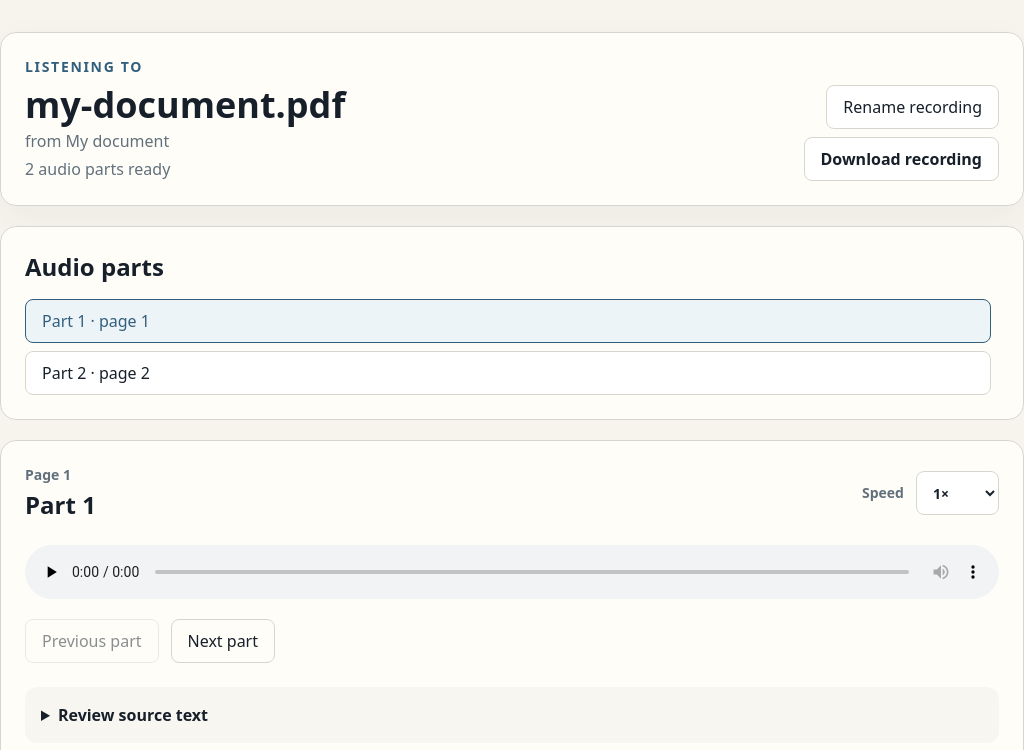
Test case: document audio player › renames the current recording from the listening page
Click the button "Rename recording" at (913, 107), box [826,85,999,129]
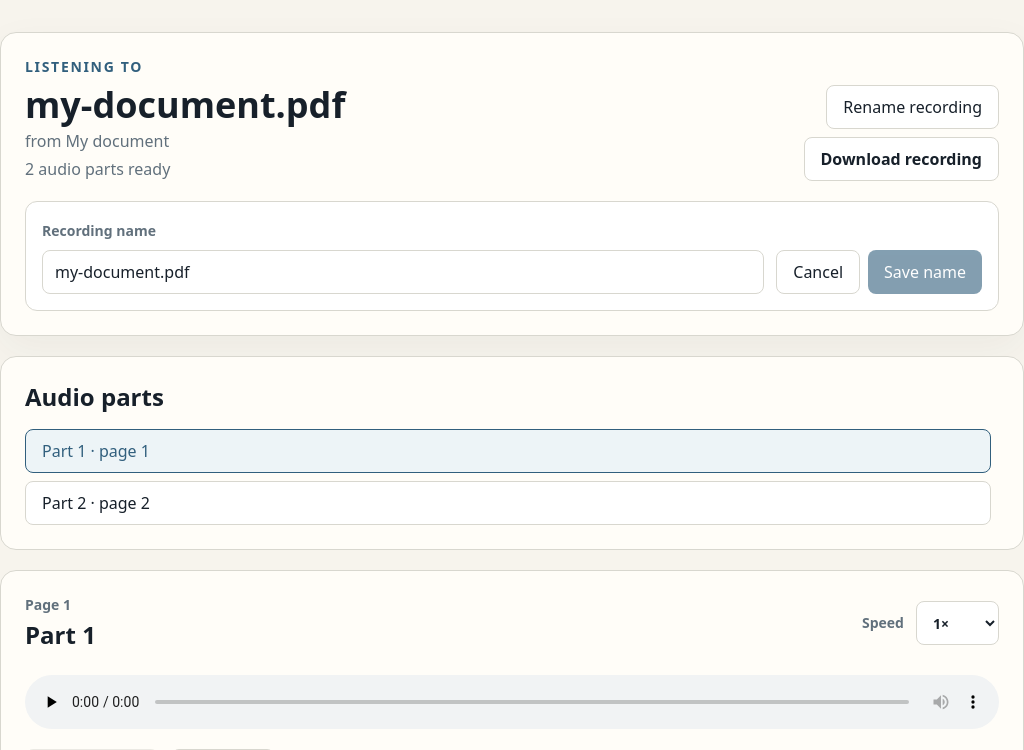
Replace the text in the field labelled "Recording name" with "Chapter 1" at (403, 272), box [42,250,764,294]
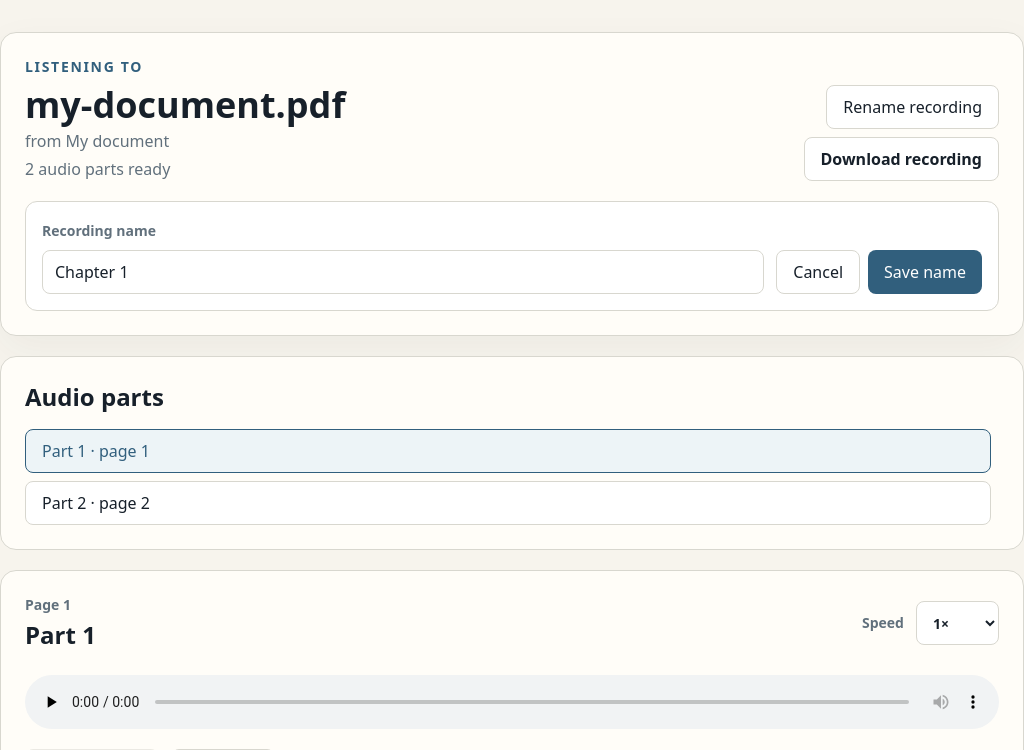
Click the button "Save name" at (925, 272), box [868,250,982,294]
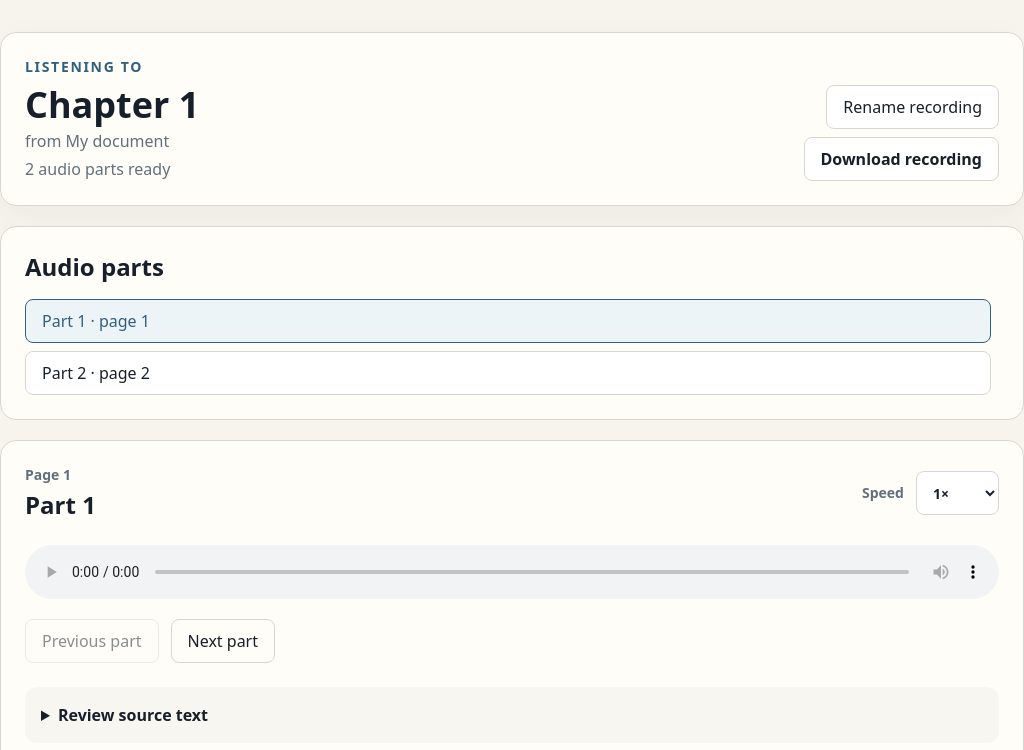
Now the heading "Chapter 1" is shown, box [25,85,199,125]
